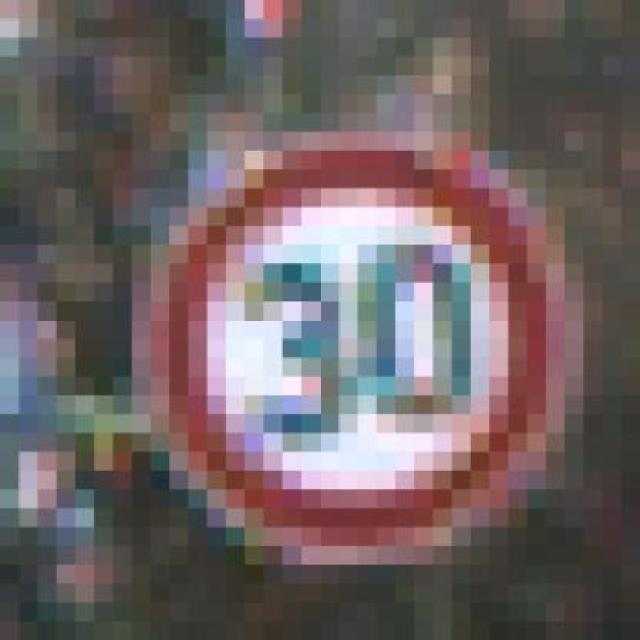Speed Limit 30 KMPh: (150, 94, 584, 583)
